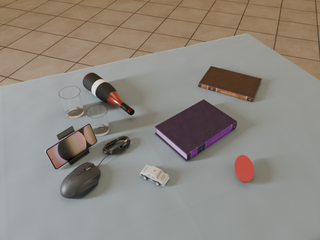book: (155, 99, 237, 161), (198, 66, 262, 102)
bottle: (83, 73, 134, 115)
cup: (59, 86, 84, 118), (86, 105, 109, 136)
mouse: (60, 162, 101, 199), (235, 155, 254, 183)
phone: (45, 123, 97, 169)
toy_car: (140, 165, 169, 186)
